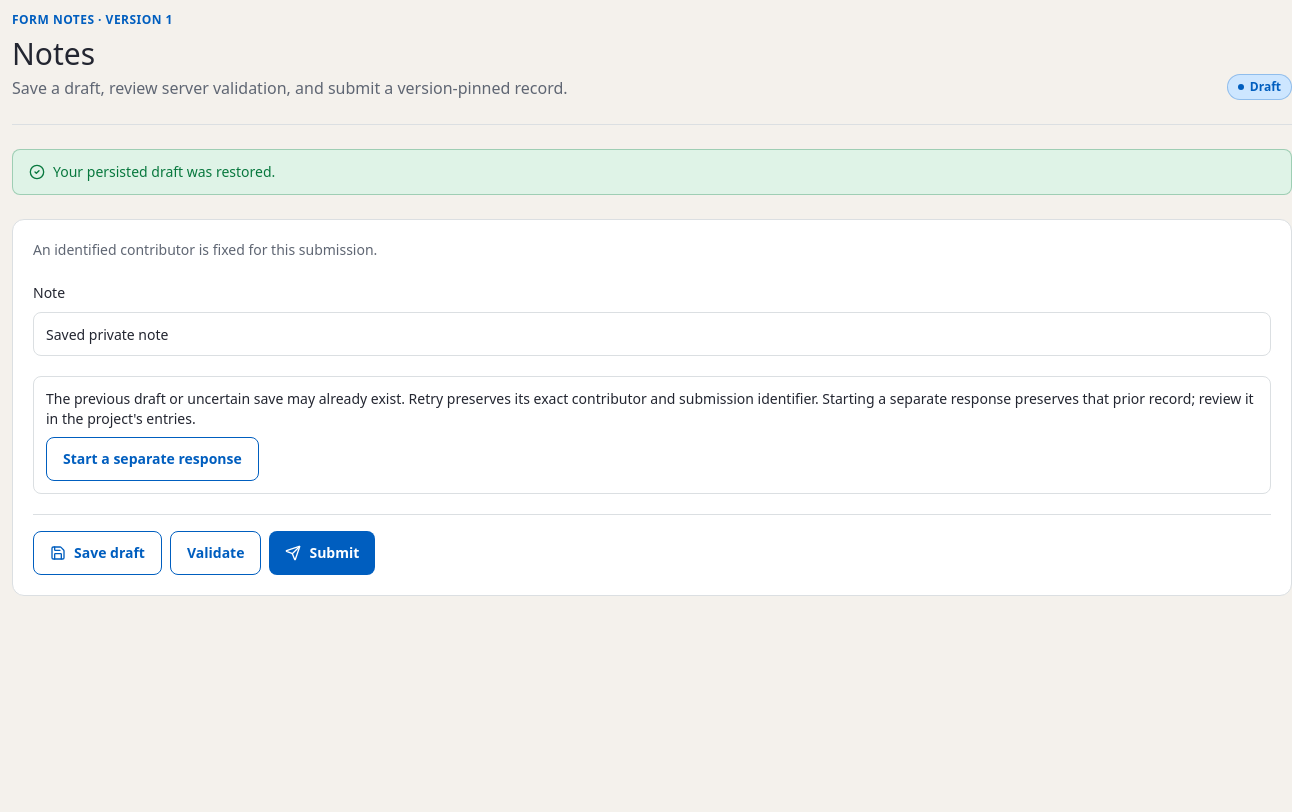
direct entry scoped retry and continuation ownership › rejects a save acknowledgement for another contributor without displaying its values
The width and height of the screenshot is (1292, 812).
Click the button "Save draft": (98, 553) [33,531,162,575]
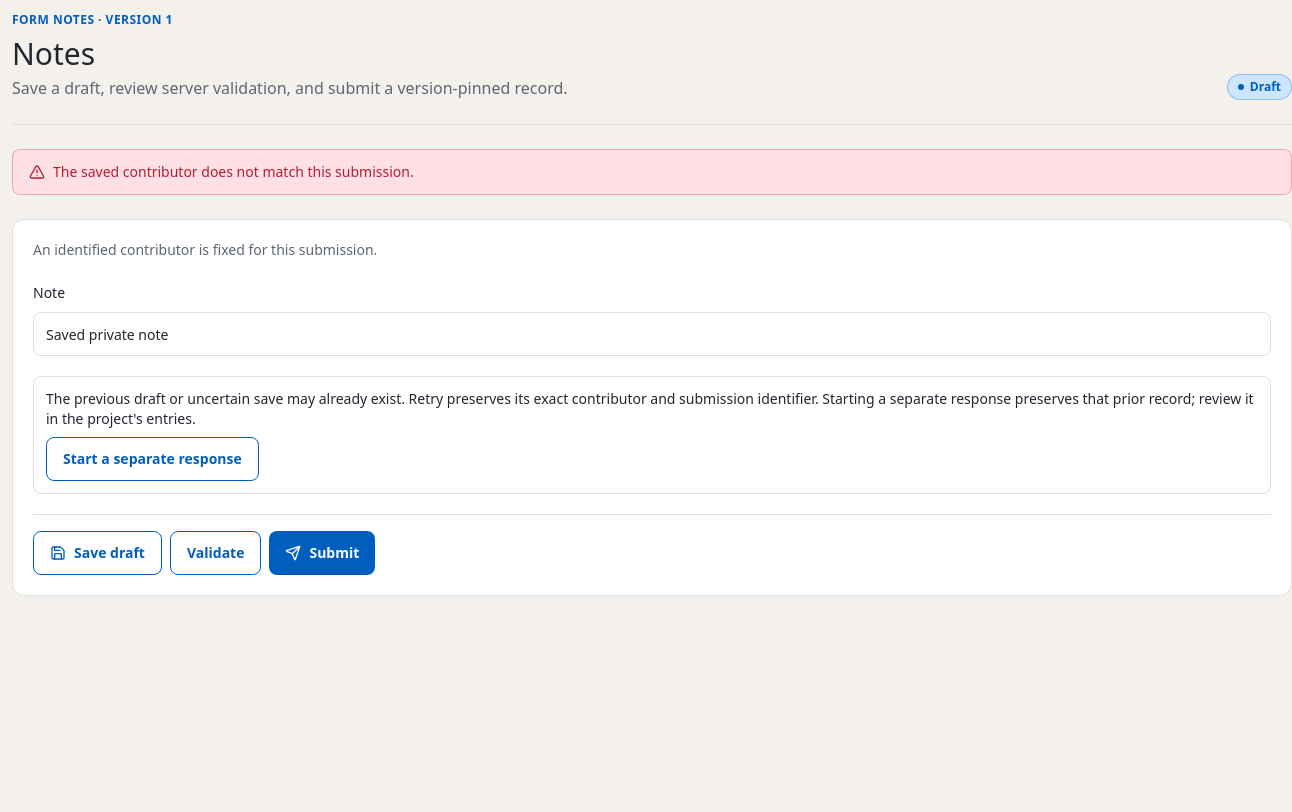
Expected: the field showing "Saved private note" is shown, [33,312,1271,356]
Result: the text "The saved contributor does not match this submission." is shown at [53,162,414,182]
